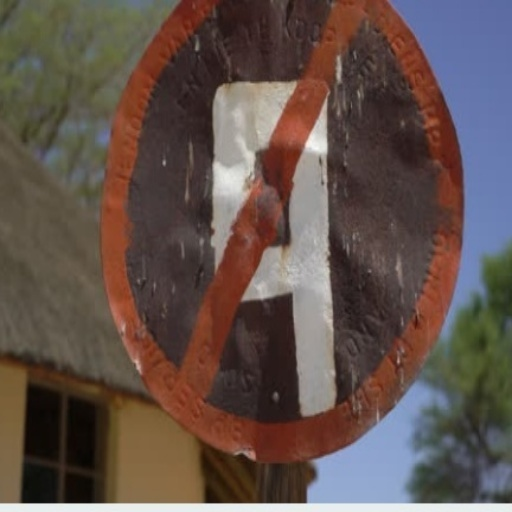No parking: (75, 8, 477, 452)
